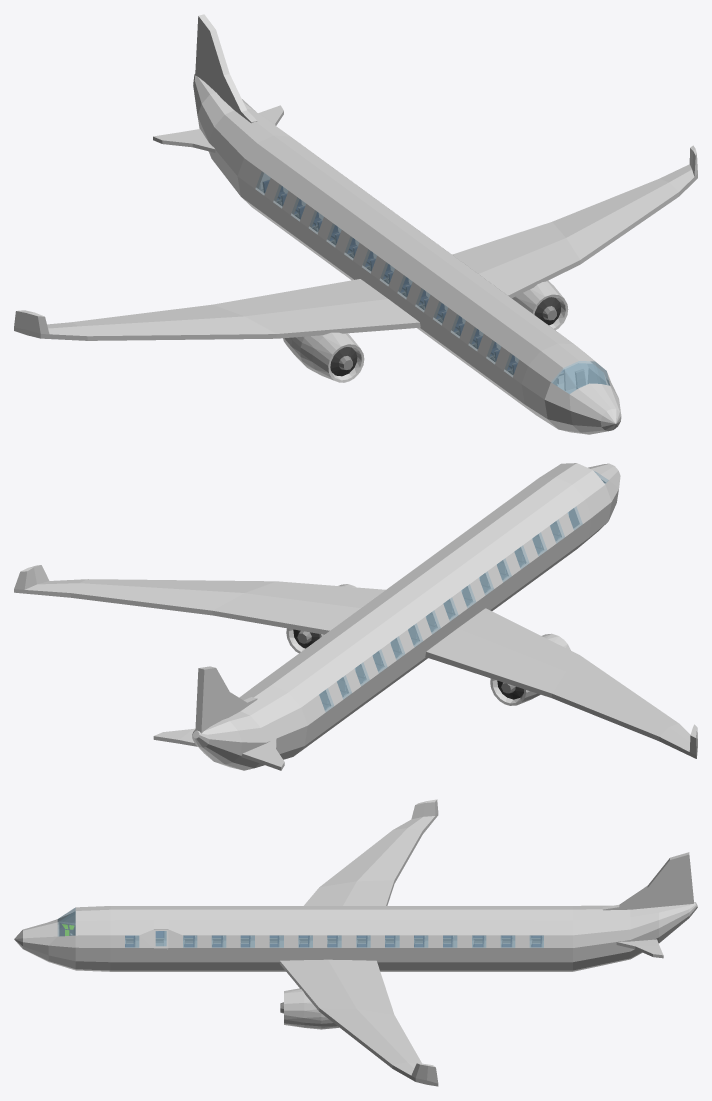
3 renders of one model, top to bottom at view 1: azimuth 30°, elevation 25°; view 2: azimuth 150°, elevation 25°; view 3: azimuth 270°, elevation 25°, orthographic. The views are drawn at different scales.
Visible parts, largest first — view 1: Plane Body_2, Plane Back_1, Front of Plane_6; view 2: Plane Body_2, Plane Back_1, Front of Plane_6; view 3: Plane Body_2, Plane Back_1, Front of Plane_6, Plane Door_5.
Boxes of the visible parts, left/top/right/bottom form: Plane Body_2: left=14, top=135, right=697, bottom=413; Plane Back_1: left=153, top=14, right=289, bottom=195; Front of Plane_6: left=521, top=343, right=621, bottom=434; Plane Body_2: left=14, top=477, right=697, bottom=758; Plane Back_1: left=153, top=666, right=307, bottom=770; Front of Plane_6: left=539, top=463, right=620, bottom=546; Plane Body_2: left=110, top=799, right=572, bottom=1086; Plane Back_1: left=573, top=852, right=697, bottom=971; Front of Plane_6: left=14, top=906, right=110, bottom=971; Plane Door_5: left=154, top=929, right=168, bottom=962.
Bounding box in the file's own units: 37.33 × 8.63 × 39.78.
